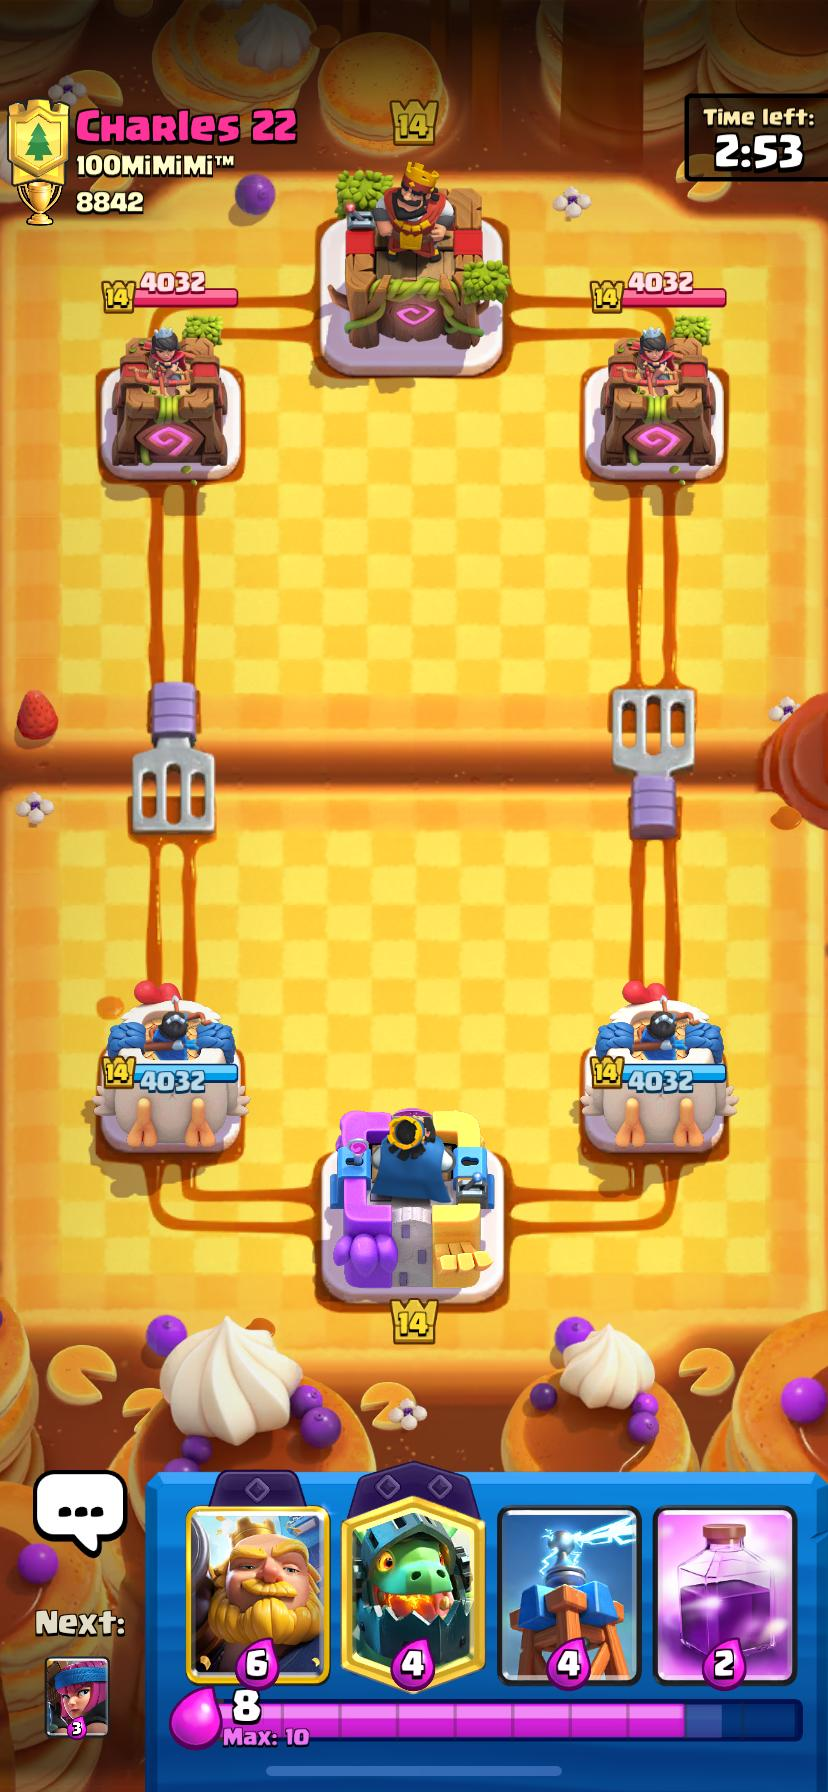EKingTower: (345, 163, 497, 350)
EnemyPrincessTower: (598, 328, 716, 473), (112, 328, 226, 474)
OwnKingTower: (334, 1109, 491, 1301)
OwnPrincessTower: (93, 995, 248, 1152), (580, 997, 735, 1150)
